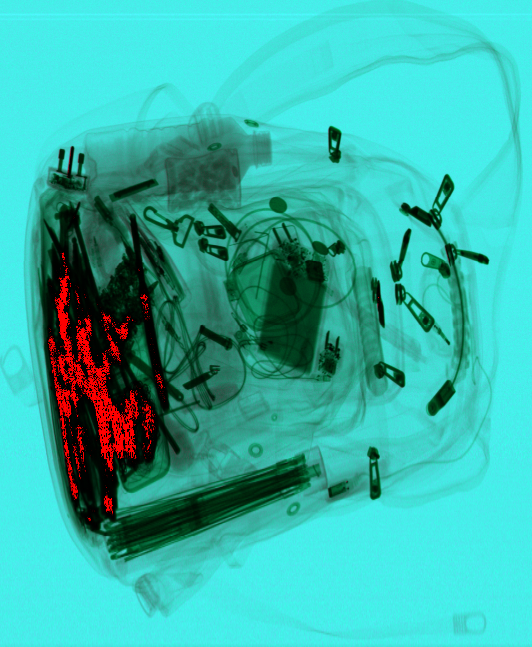Plastic Bottle: (84, 117, 272, 203)
